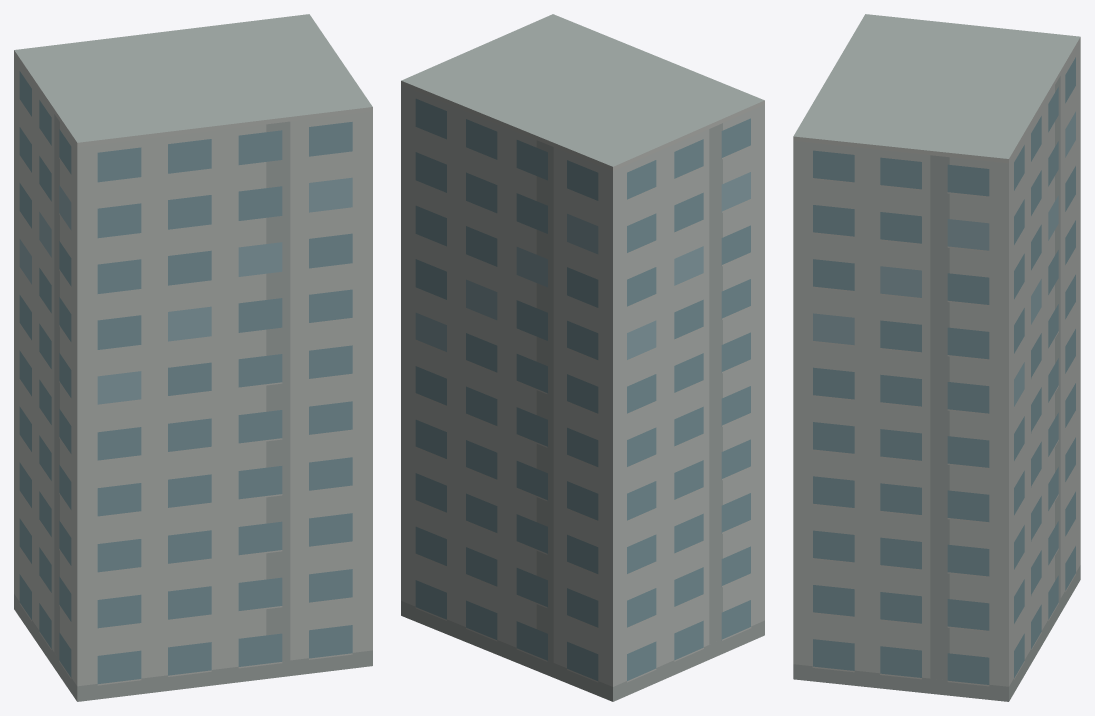
The model's file is residential-be77156d-7ea8-4f90-a145-a7cec567ac10.glb.
3 views of the same model, side by side, from view 1: azimuth 30°, elevation 25°; view 2: azimuth 150°, elevation 25°; view 3: azimuth 270°, elevation 25° (orthographic). The views are drawn at different scales.
Visible parts, largest first — view 1: residential-be77156d-7ea8-4f90-a145-a7cec567ac10.tmp; view 2: residential-be77156d-7ea8-4f90-a145-a7cec567ac10.tmp; view 3: residential-be77156d-7ea8-4f90-a145-a7cec567ac10.tmp.
Part boxes in pixels (x1=…): residential-be77156d-7ea8-4f90-a145-a7cec567ac10.tmp: x1=14, y1=14, x2=372, y2=701; residential-be77156d-7ea8-4f90-a145-a7cec567ac10.tmp: x1=401, y1=14, x2=764, y2=701; residential-be77156d-7ea8-4f90-a145-a7cec567ac10.tmp: x1=793, y1=14, x2=1080, y2=701.
Size of the model in its own units: 17.2 by 30 by 14.41.
